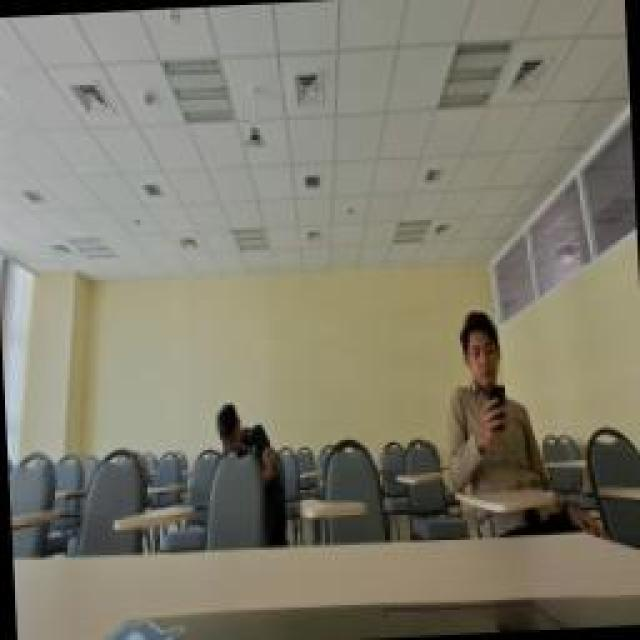phone: (435, 300, 547, 495)
sleep: (208, 385, 280, 460)
